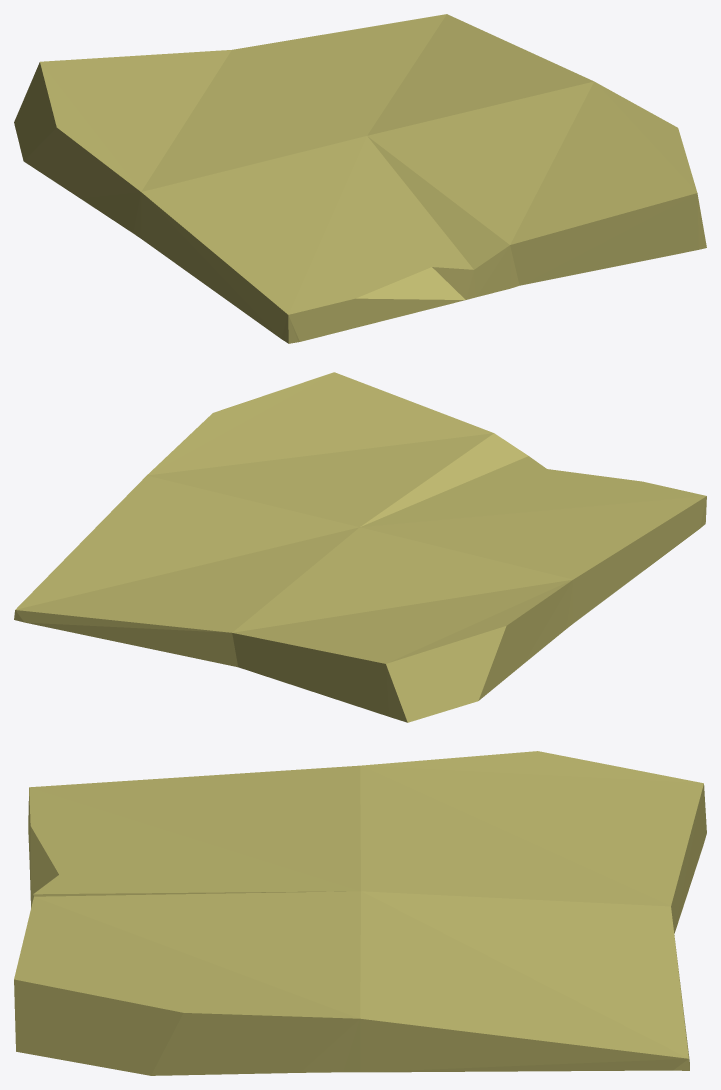
Rendered from Prop_Jungle_Temple_Stepping_Stone_01.FBX.
3 views of the same model, one above another, from view 1: azimuth 30°, elevation 25°; view 2: azimuth 150°, elevation 25°; view 3: azimuth 270°, elevation 25° (orthographic). The views are drawn at different scales.
Parts seen in each view (by area): view 1: Prop_Jungle_Temple_Stepping_Stone_01; view 2: Prop_Jungle_Temple_Stepping_Stone_01; view 3: Prop_Jungle_Temple_Stepping_Stone_01.
Boxes of the visible parts, x1=… form: Prop_Jungle_Temple_Stepping_Stone_01: x1=14, y1=14, x2=706, y2=343; Prop_Jungle_Temple_Stepping_Stone_01: x1=14, y1=372, x2=706, y2=722; Prop_Jungle_Temple_Stepping_Stone_01: x1=14, y1=751, x2=706, y2=1075.
Bounding box in the file's own units: 818 × 96.97 × 916.
